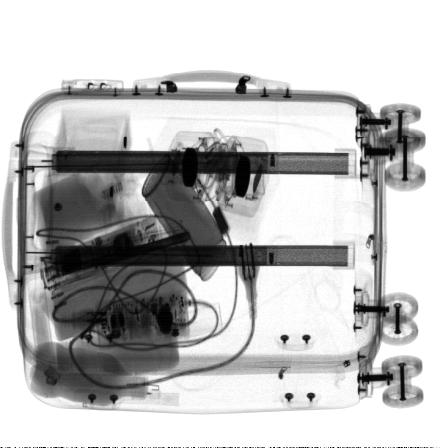Baton: (39, 215, 163, 292)
